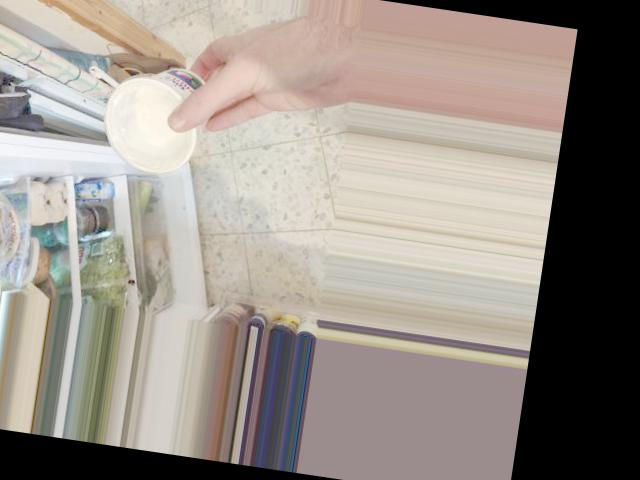cotage: (90, 50, 217, 181)
